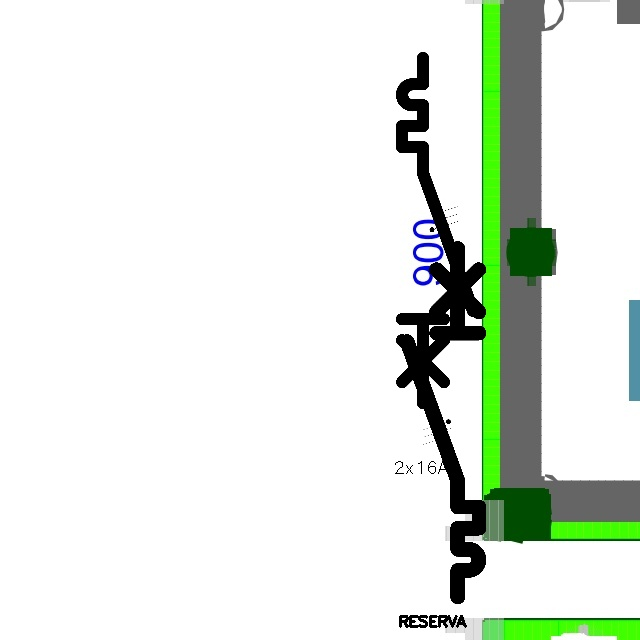interruptor_termomagnetico: (398, 239, 488, 606), (393, 49, 481, 411)
